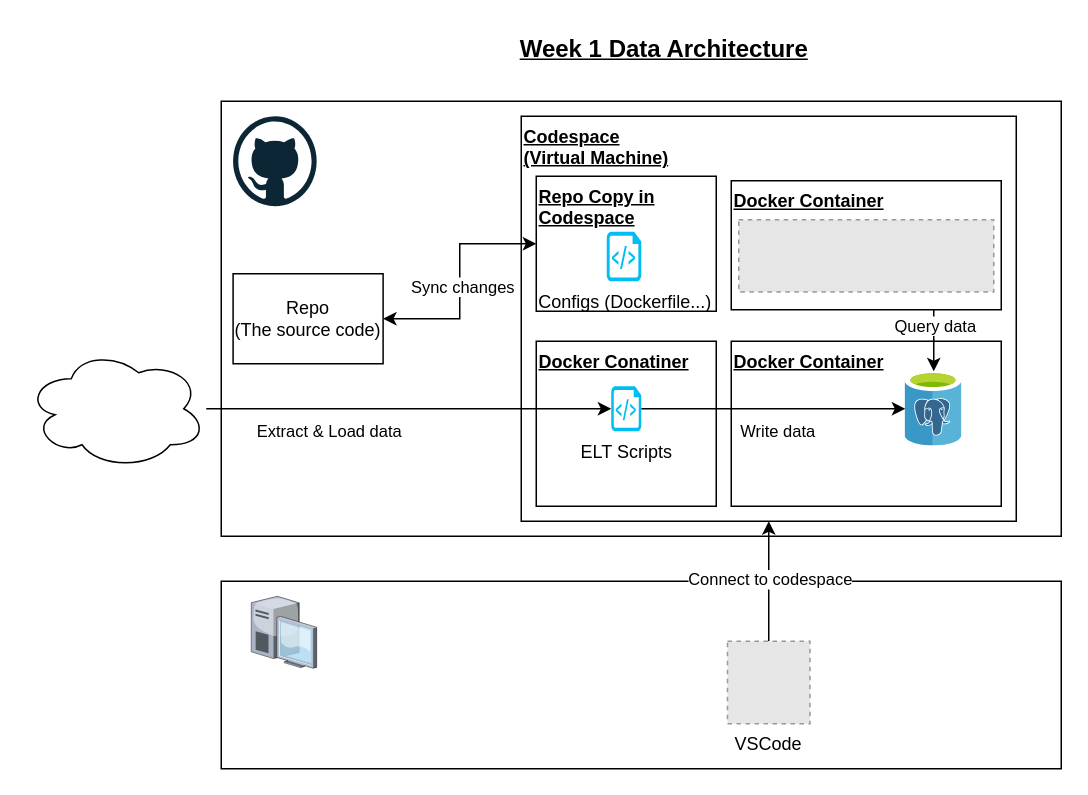
Some shapes in this 1088 by 795 pixel diagram are drawn without their labels. Grey dashed boxes stand in for pictures. The shapes that lost their labels are listed below. From the top down, each one's centre as x and y in pixels, then its label:
(x=274, y=160): GitHub
(x=115, y=408): NYC Taxi (Data Source)
(x=933, y=408): Postgres DB
(x=283, y=632): Local Machine
